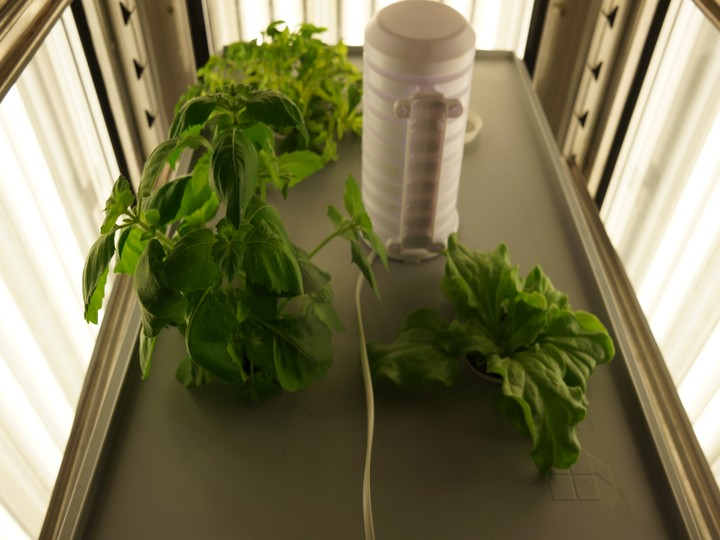basilic_blue_spice: (66, 84, 390, 413)
ficoide_glaciale: (366, 224, 622, 482)
roquette_sauvage_red_veined: (176, 13, 384, 134)
